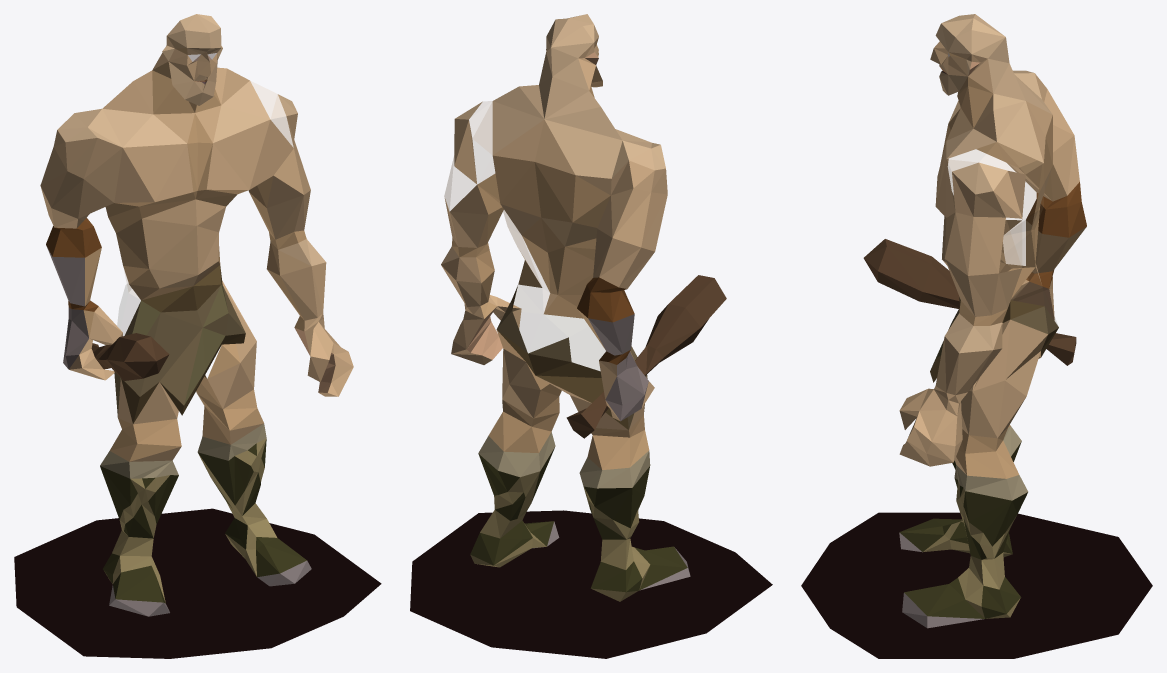
Rendered from obor.gltf.
The picture shows the model from 3 angles, left to right: view 1: azimuth 30°, elevation 25°; view 2: azimuth 150°, elevation 25°; view 3: azimuth 270°, elevation 25°; orthographic projection.
Bounding box in the file's own units: 192 × 350 × 195.
2 materials, 2 textured.
